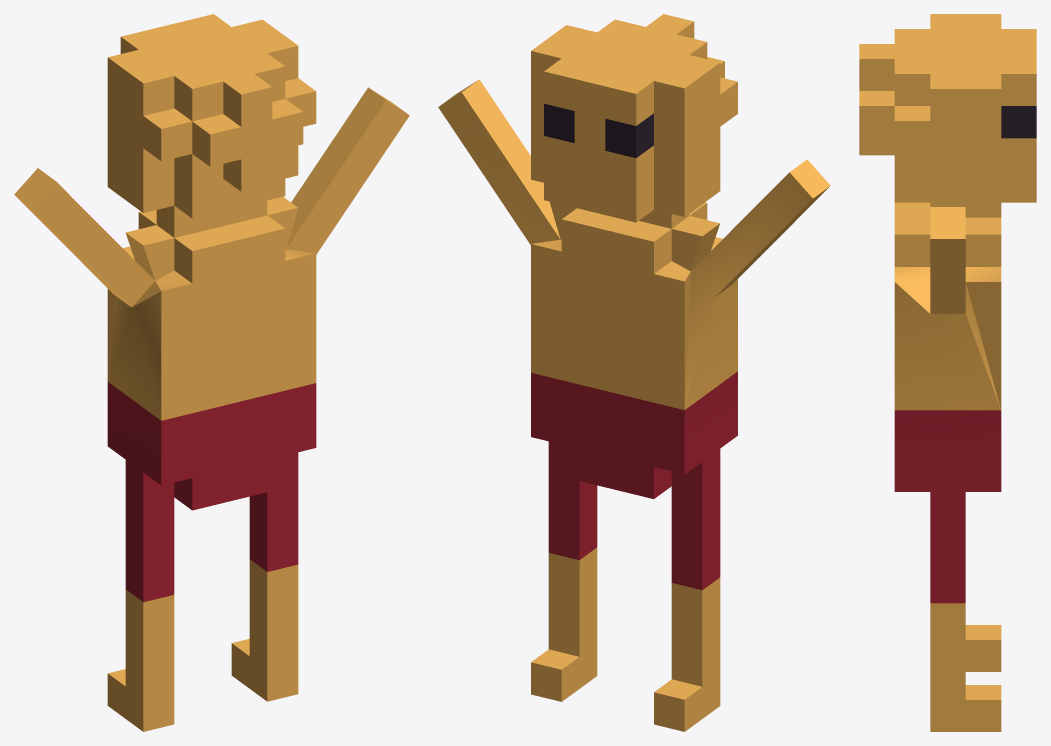
Rendered from human-celebrate.fbx.
The picture shows the model from 3 angles, left to right: view 1: azimuth 30°, elevation 25°; view 2: azimuth 150°, elevation 25°; view 3: azimuth 270°, elevation 25°; orthographic projection.
Visible parts, largest first — view 1: ObjObject.004; view 2: ObjObject.004; view 3: ObjObject.004.
Part boxes in pixels (bbox=[...]): ObjObject.004: bbox=[14, 14, 409, 731]; ObjObject.004: bbox=[438, 14, 830, 731]; ObjObject.004: bbox=[859, 14, 1036, 731].
Size of the model in its own units: 122 by 200 by 50.
Materials: 1 (1 with a texture image).
